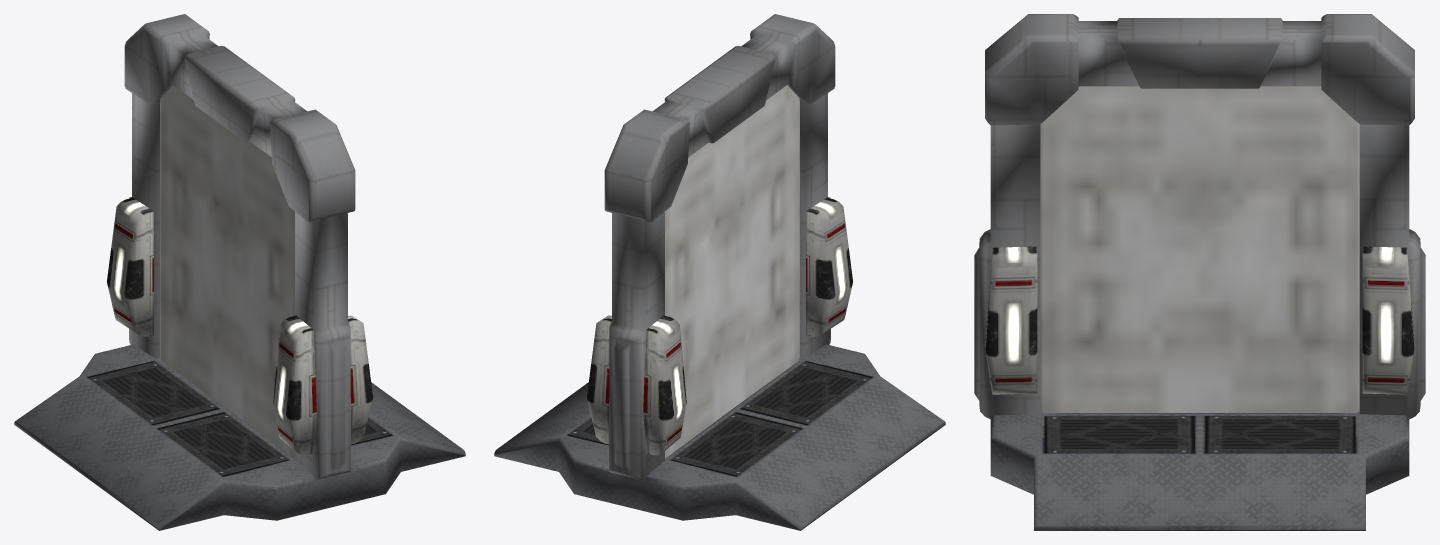
The model's file is S_Door.fbx.
3 renders of one model, left to right at view 1: azimuth 30°, elevation 25°; view 2: azimuth 150°, elevation 25°; view 3: azimuth 270°, elevation 25°, orthographic. The views are drawn at different scales.
Parts seen in each view (by area): view 1: podstawa, Drzwi, ramka, panele; view 2: podstawa, Drzwi, ramka, panele; view 3: Drzwi, ramka, podstawa, panele.
Part boxes in pixels (bbox=[...]): podstawa: bbox=[14, 344, 465, 530]; Drzwi: bbox=[160, 85, 294, 458]; ramka: bbox=[124, 14, 355, 480]; panele: bbox=[107, 197, 372, 455]; podstawa: bbox=[494, 344, 945, 530]; Drzwi: bbox=[665, 85, 799, 458]; ramka: bbox=[604, 14, 835, 480]; panele: bbox=[587, 197, 852, 455]; Drzwi: bbox=[1040, 86, 1359, 413]; ramka: bbox=[974, 14, 1425, 419]; podstawa: bbox=[990, 411, 1409, 530]; panele: bbox=[985, 246, 1414, 394].
Bounding box in the file's own units: 396 × 453 × 441.
